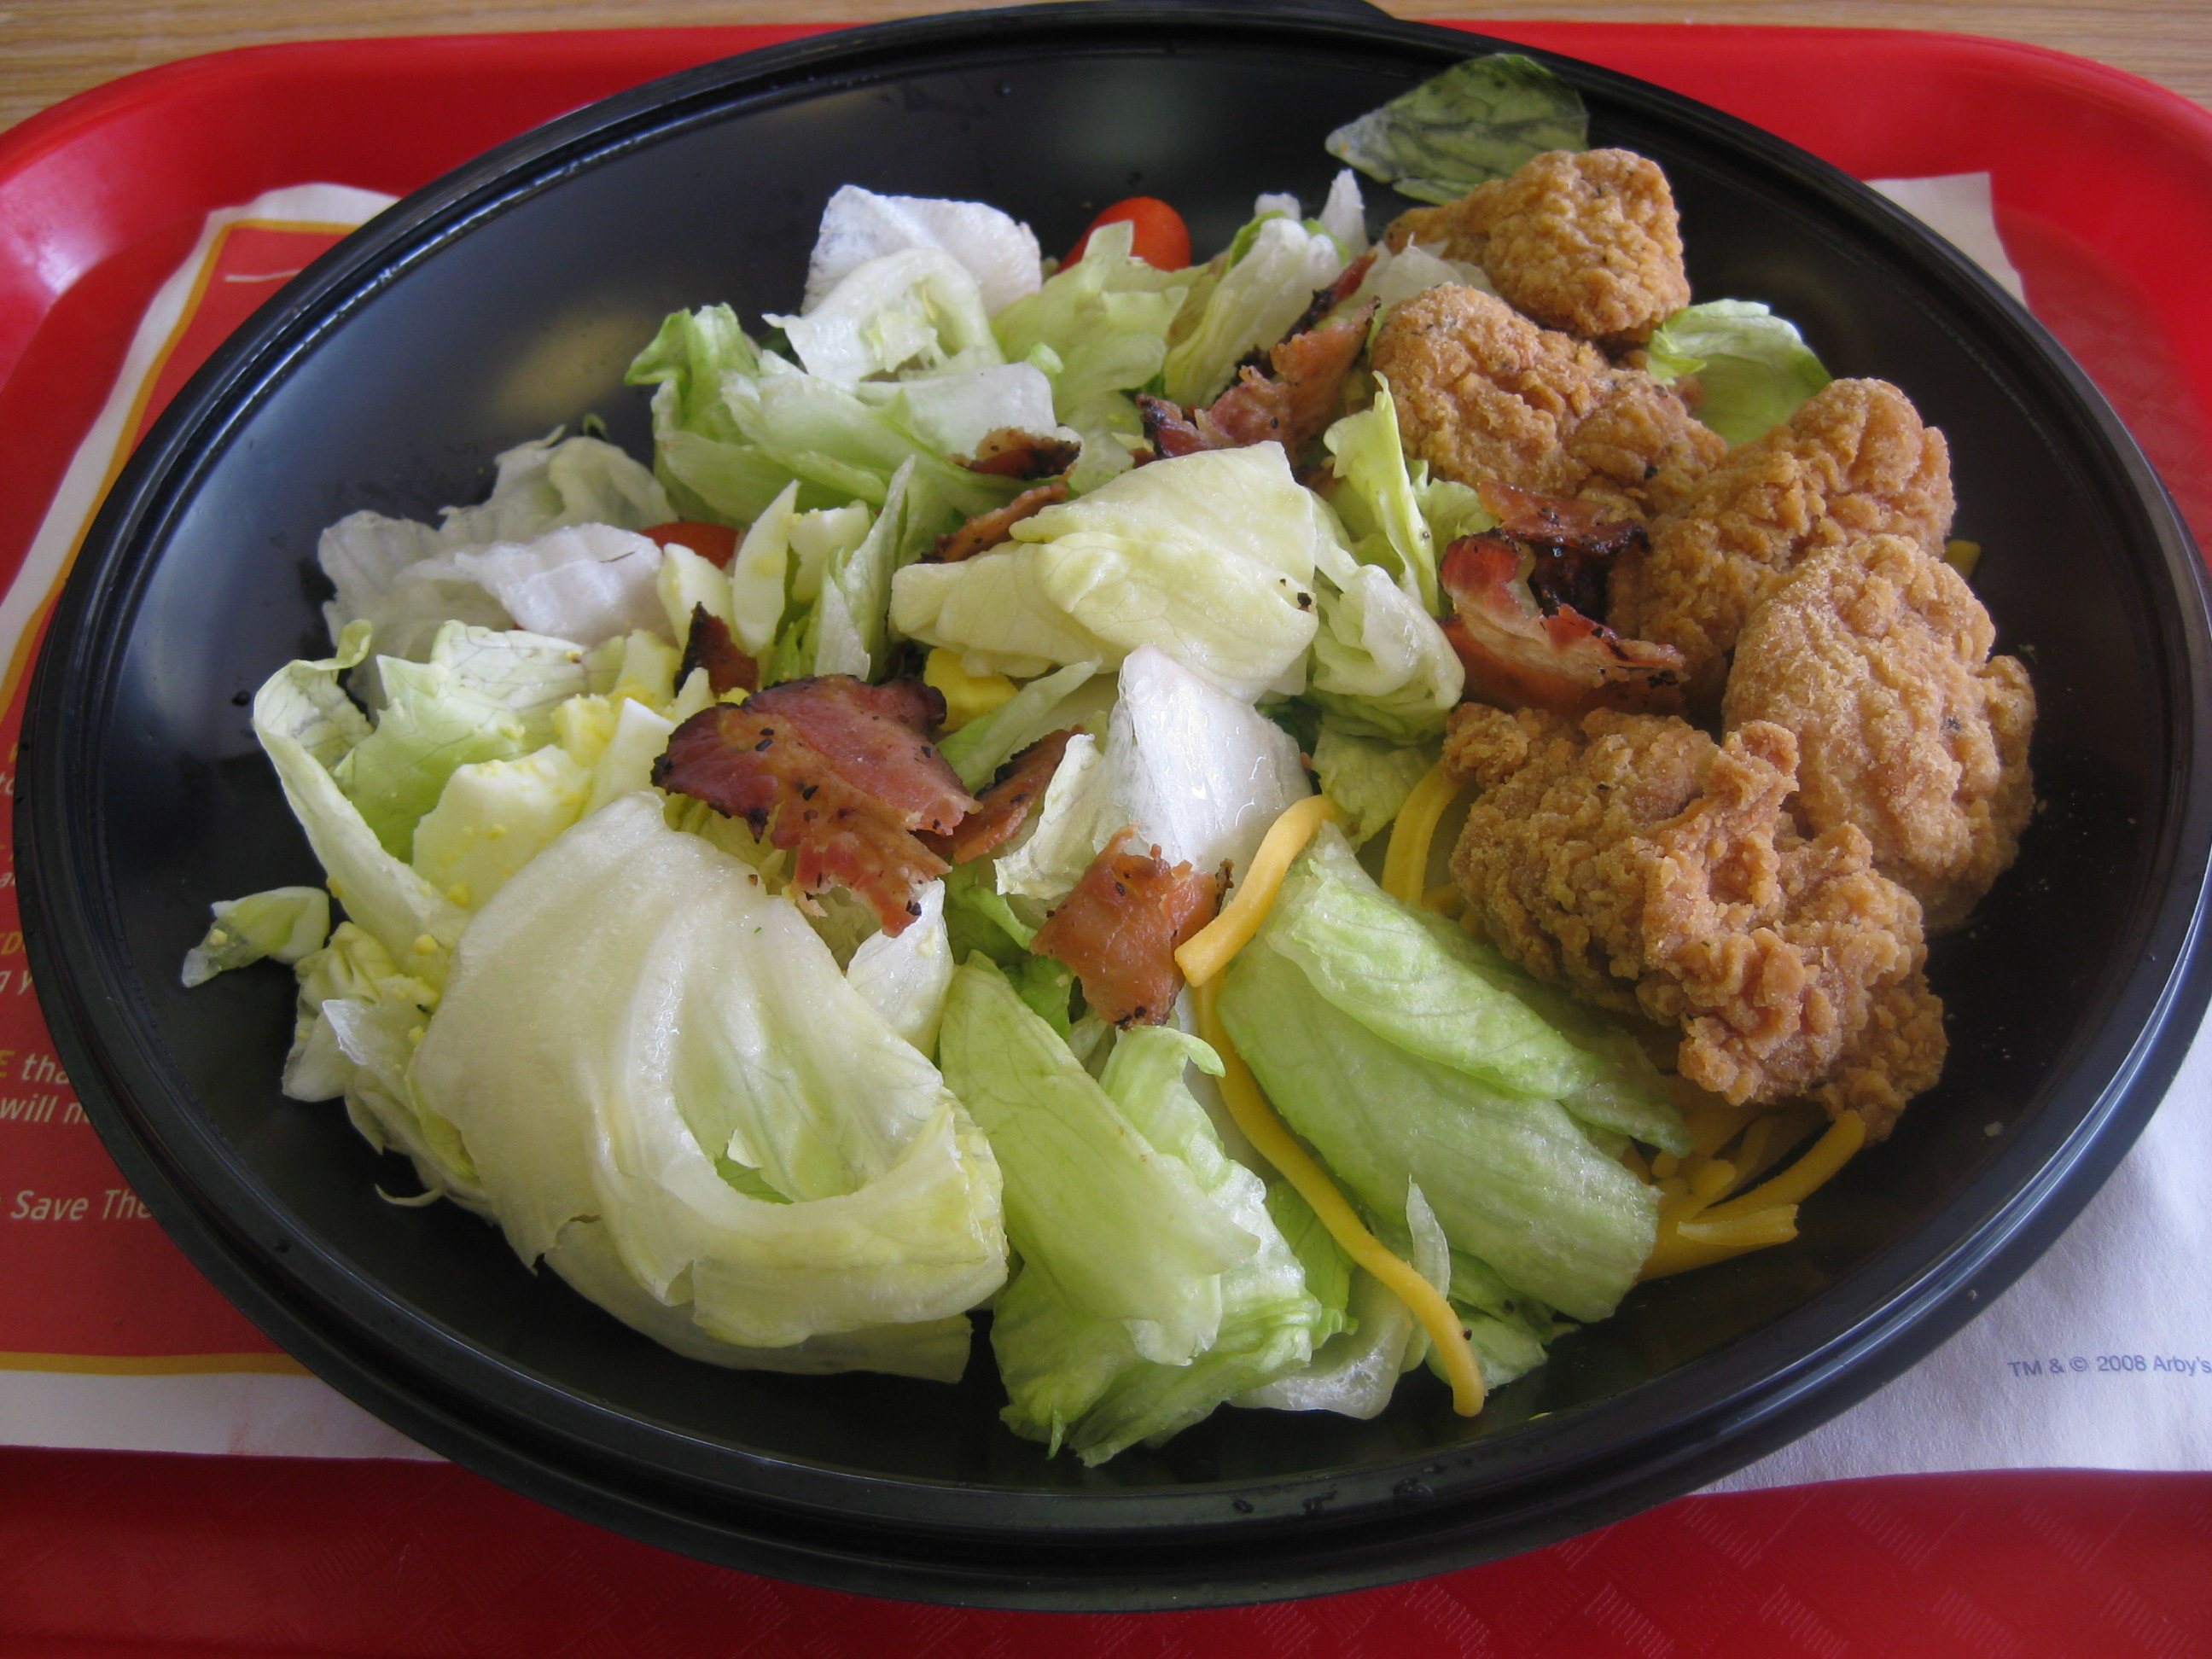salad: (155, 20, 2097, 1465)
